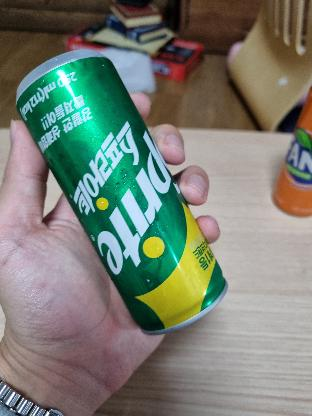Can: (0, 40, 236, 340)
